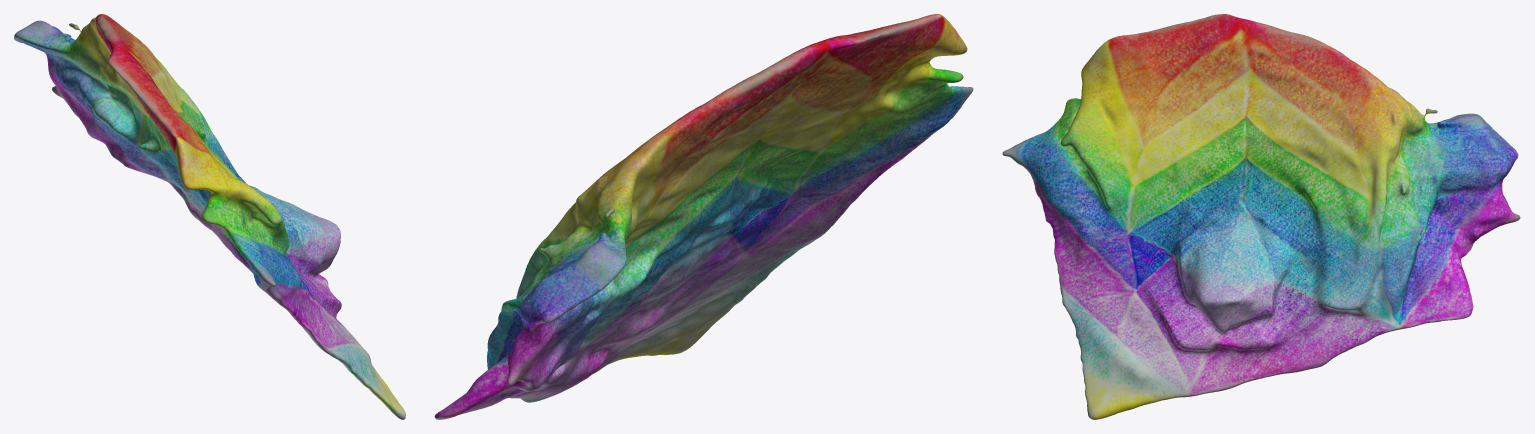
File: 794be2e76760_low_poly_flake_that.fbx
The picture shows the model from 3 angles, left to right: view 1: azimuth 30°, elevation 25°; view 2: azimuth 150°, elevation 25°; view 3: azimuth 270°, elevation 25°; orthographic projection. The views are drawn at different scales.
Visible parts, largest first — view 1: high_poly; view 2: high_poly; view 3: high_poly.
Part boxes in pixels (x1,y1,x2,y2): high_poly: (14,14,405,419); high_poly: (434,14,973,419); high_poly: (1002,14,1520,419).
Bounding box in the file's own units: 45.19 × 66.91 × 100.
